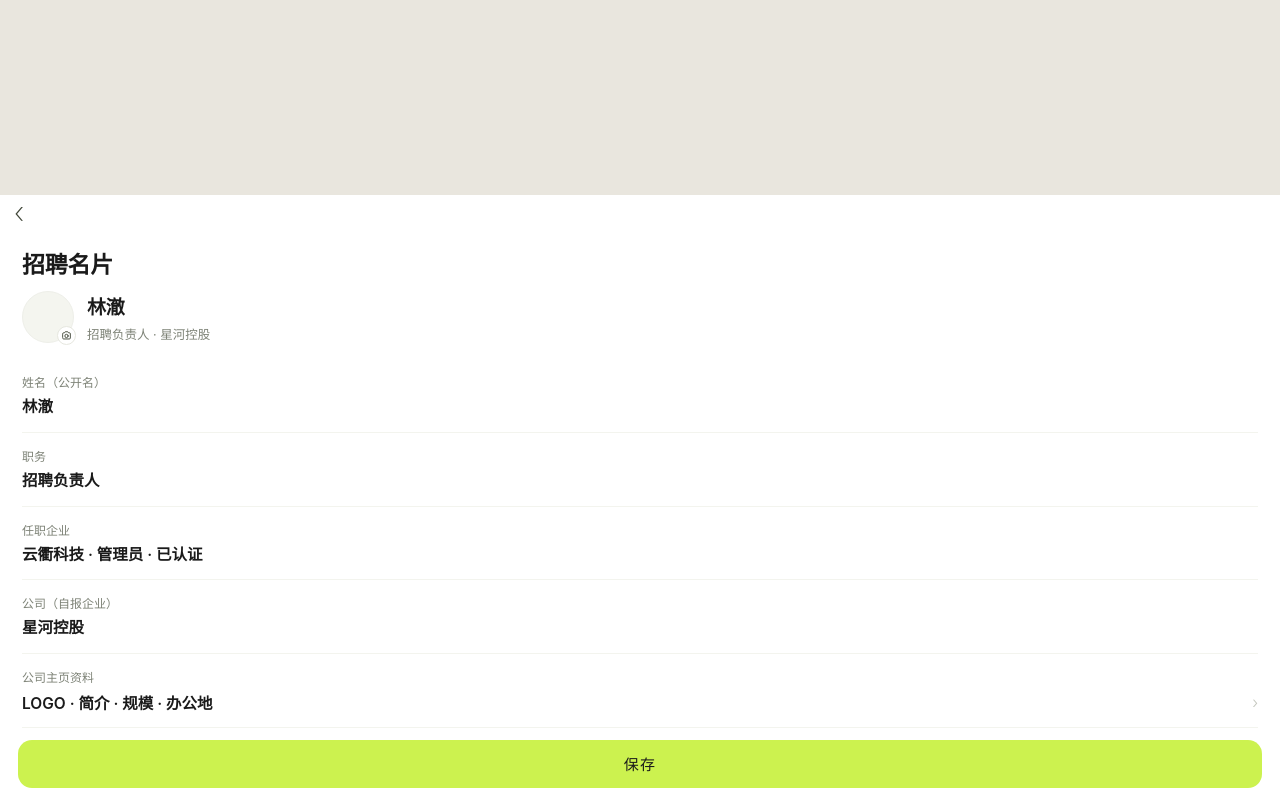
it: 招聘名片 · Backend 诚实身份 › 选择企业关系失败时给出轻提示，不让 rejection 无人接
(page scrolled)
Click the button "云衢科技 · 管理员 · 已认证" at (53, 554), box [22,544,1258,565]
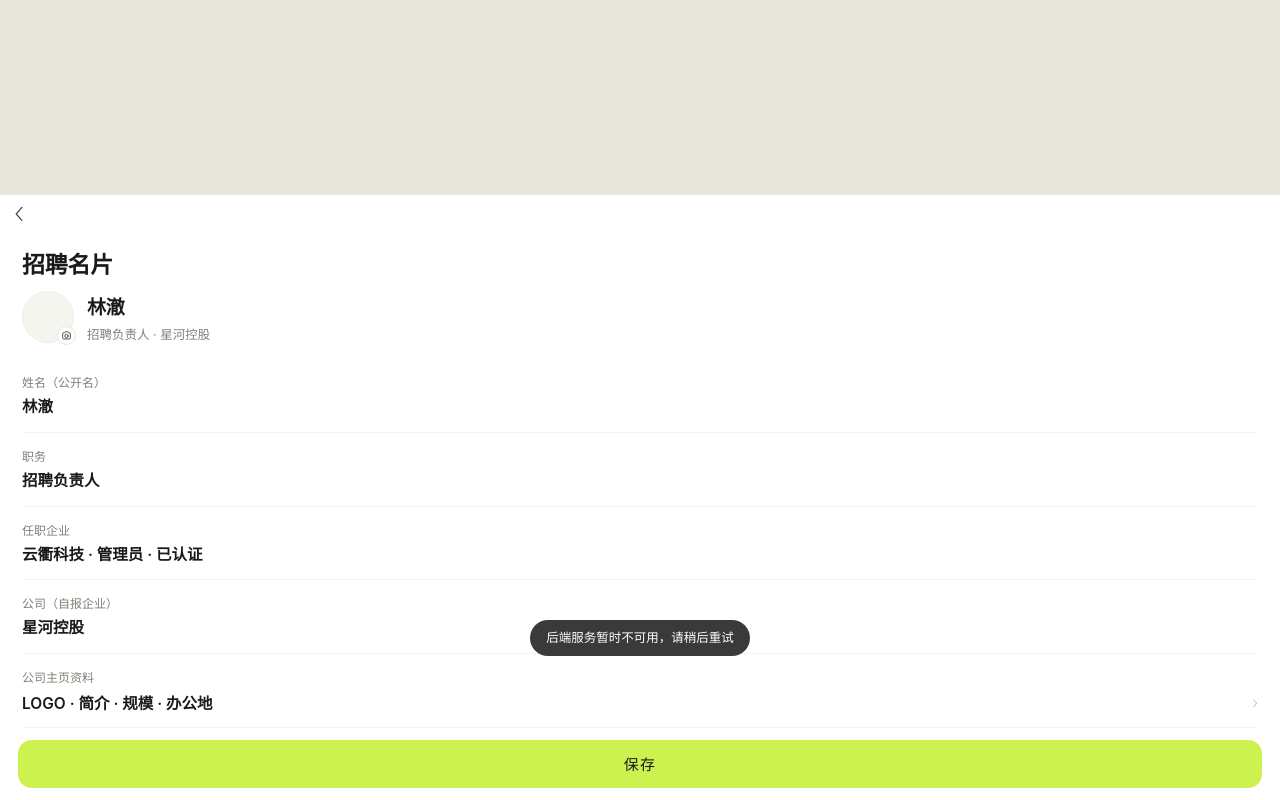
Check: the text "后端服务暂时不可用，请稍后重试" is shown, box [530,620,750,656]
